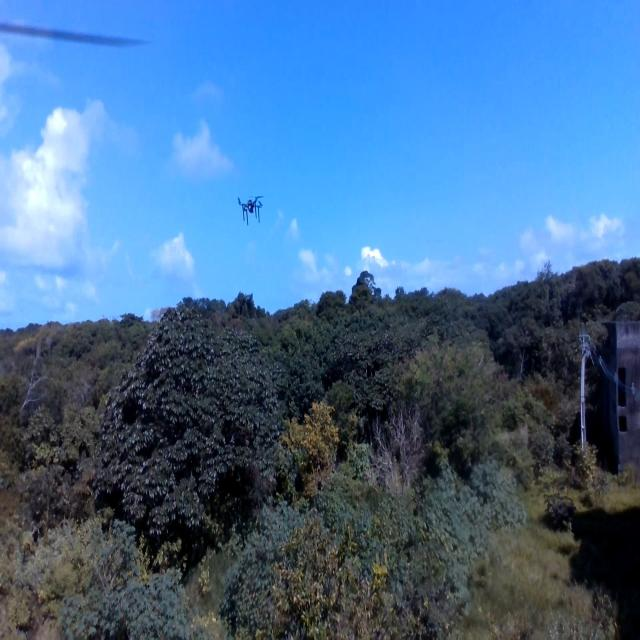-uav-: (235, 187, 268, 231)
